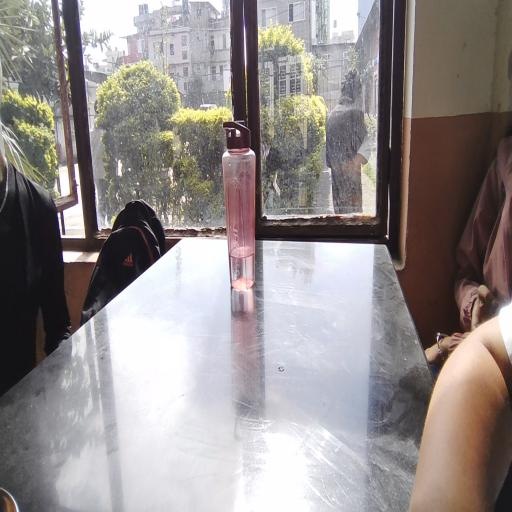Bottle: (218, 124, 282, 318)
